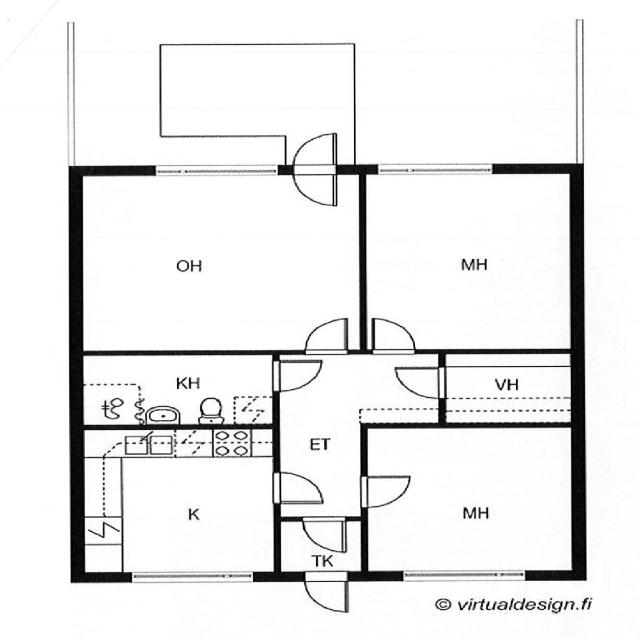door: (287, 129, 346, 209), (362, 312, 428, 357), (292, 315, 357, 358), (388, 363, 453, 403), (300, 570, 352, 616), (266, 356, 328, 394), (354, 473, 416, 509), (272, 469, 326, 508), (301, 517, 348, 554)
window: (146, 159, 288, 186), (368, 156, 503, 183), (126, 566, 263, 590), (394, 564, 536, 586)
zone: (76, 169, 363, 355), (363, 168, 576, 351), (358, 424, 578, 576), (76, 432, 277, 578), (80, 352, 278, 427), (441, 351, 577, 427)
